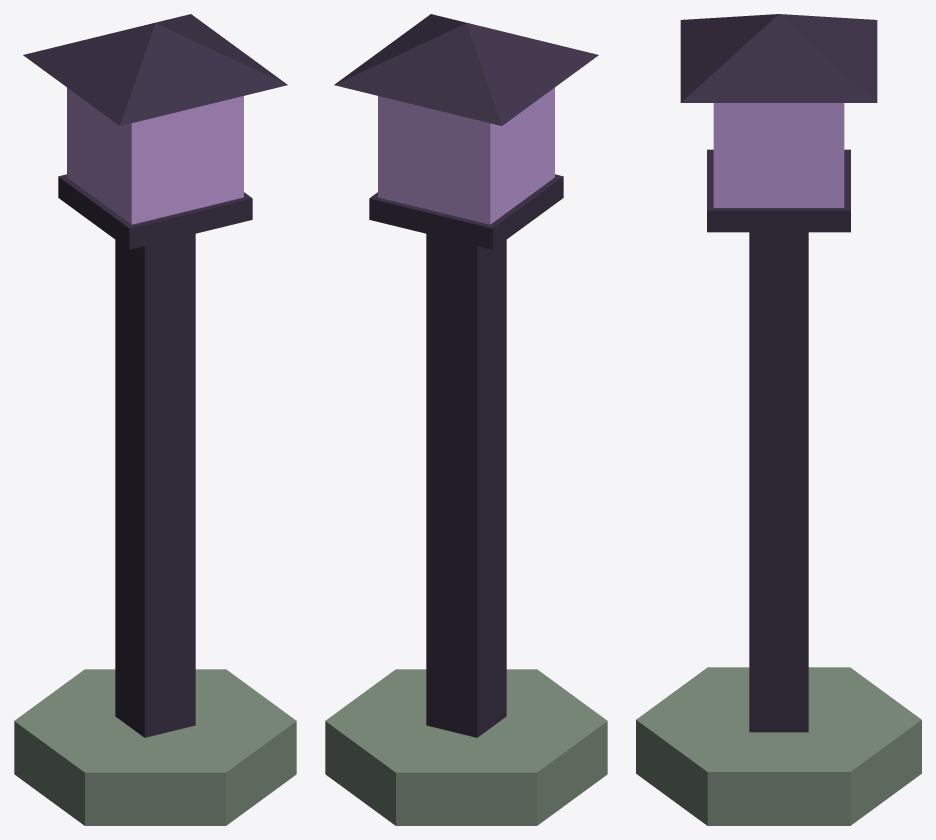
File: lantern.glb
3 renders of one model, left to right at view 1: azimuth 30°, elevation 25°; view 2: azimuth 150°, elevation 25°; view 3: azimuth 270°, elevation 25°, orthographic.
Parts seen in each view (by area): view 1: graveyard-lantern; view 2: graveyard-lantern; view 3: graveyard-lantern.
Part boxes in pixels (x1,y1,x2,y2): graveyard-lantern: [14, 14, 296, 825]; graveyard-lantern: [325, 14, 607, 825]; graveyard-lantern: [636, 14, 921, 825].
Size of the model in its own units: 0.2078 by 0.704 by 0.24.
